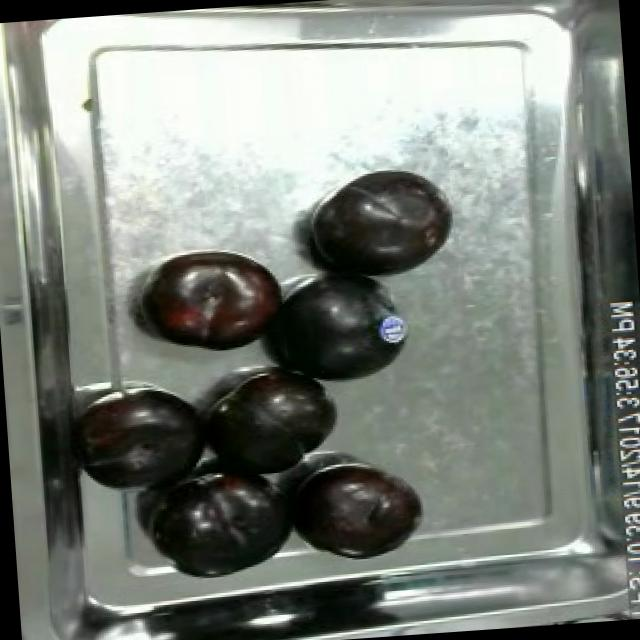Fruit: (196, 352, 351, 490), (297, 160, 461, 289), (140, 464, 302, 587), (139, 242, 295, 362), (68, 378, 218, 498), (282, 451, 433, 565)
